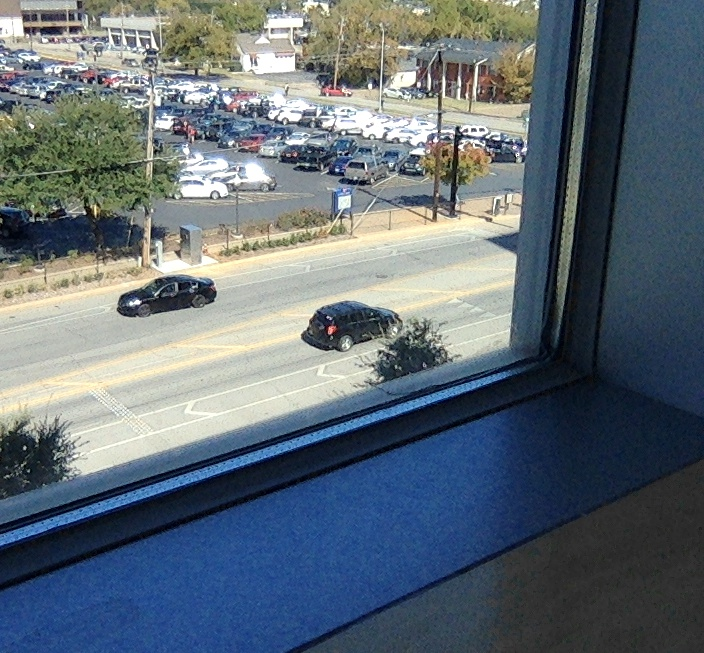car: (300, 300, 404, 353)
